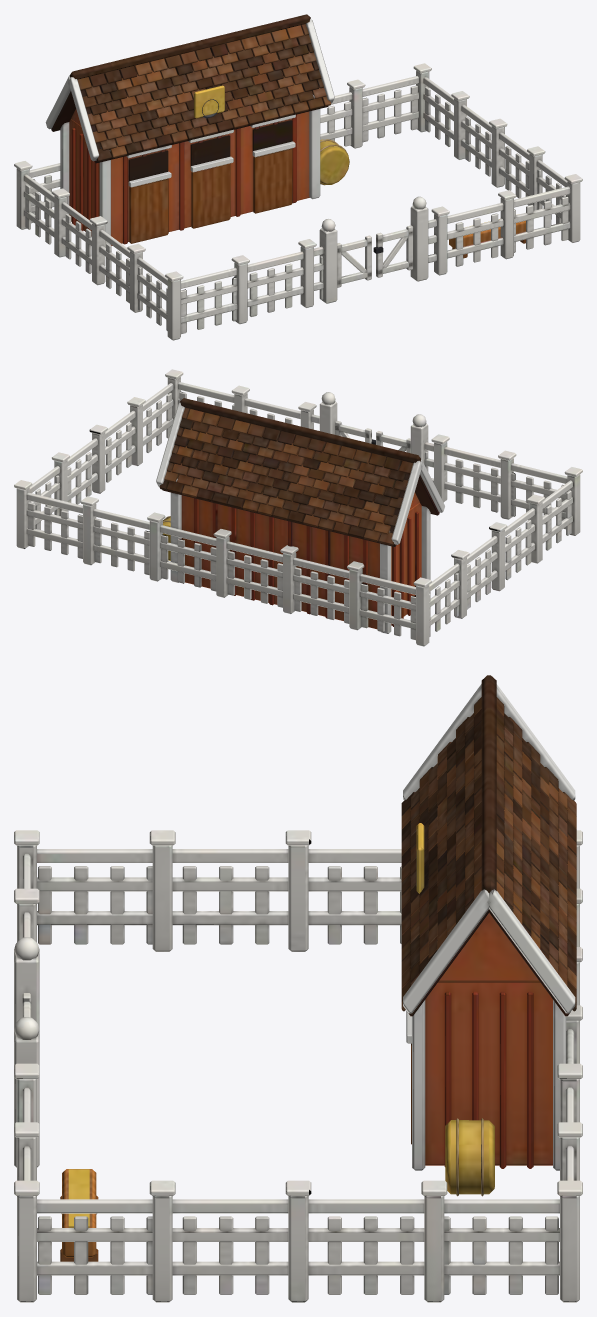
Rendered from appaloosa_stable.glb.
3 renders of one model, top to bottom at view 1: azimuth 30°, elevation 25°; view 2: azimuth 150°, elevation 25°; view 3: azimuth 270°, elevation 25°, orthographic. The views are drawn at different scales.
Parts seen in each view (by area): view 1: appaloosa_stable, gate1, gate0; view 2: appaloosa_stable, gate1, gate0; view 3: appaloosa_stable.
Part boxes in pixels (x1=…): appaloosa_stable: x1=14, y1=14, x2=582, y2=340; gate1: x1=373, y1=225, x2=413, y2=277; gate0: x1=337, y1=235, x2=371, y2=287; appaloosa_stable: x1=14, y1=369, x2=582, y2=646; gate1: x1=334, y1=420, x2=375, y2=444; gate0: x1=376, y1=431, x2=410, y2=453; appaloosa_stable: x1=14, y1=675, x2=582, y2=1302.
Bounding box in the file's own units: 2.99 × 1.16 × 1.99.
Materials: 1 (1 with a texture image).
